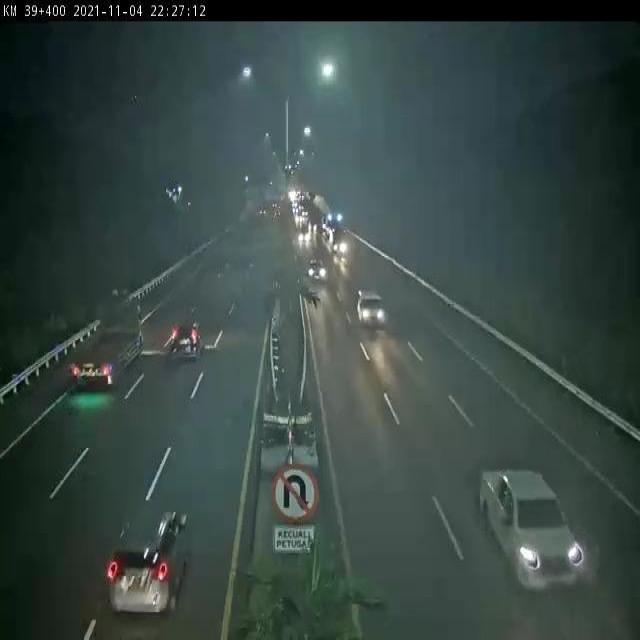car: (475, 464, 585, 591), (108, 501, 194, 616), (168, 320, 205, 359), (355, 291, 390, 329), (307, 257, 328, 283)
truck-m-: (64, 288, 145, 389)
